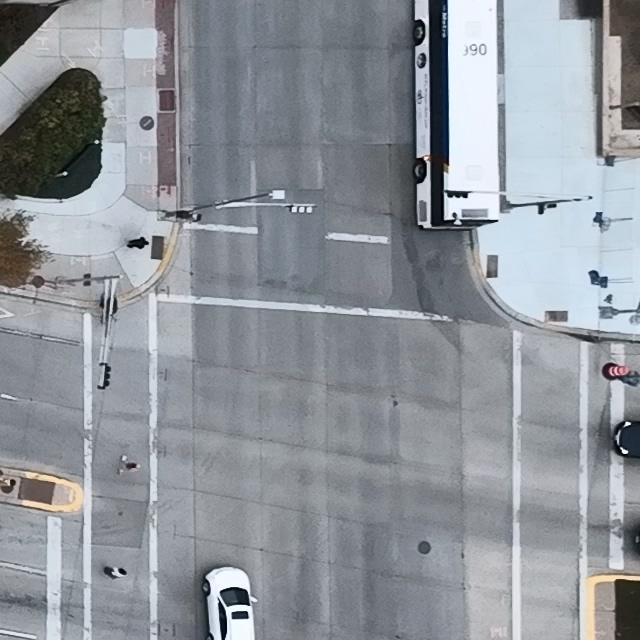car: (413, 0, 500, 229), (202, 567, 257, 640), (612, 419, 640, 459)
